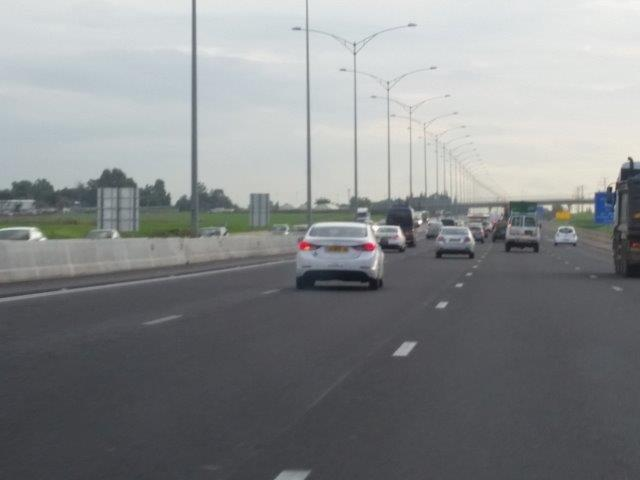licence: (324, 243, 348, 254)
